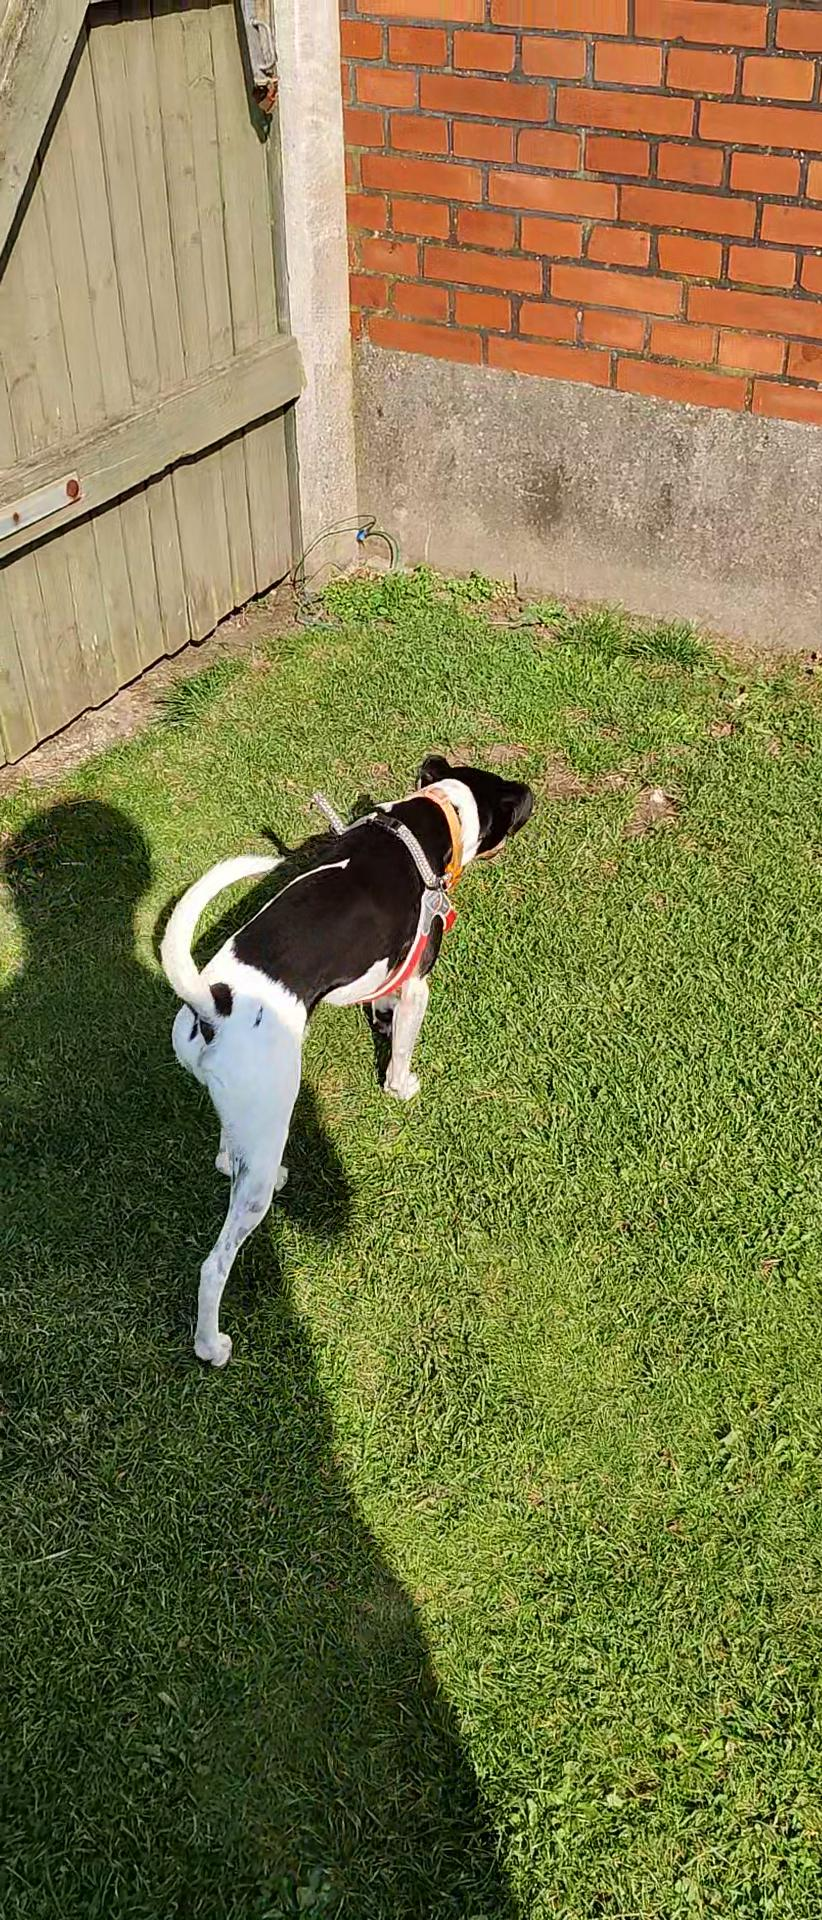Dog: (156, 737, 541, 1403)
